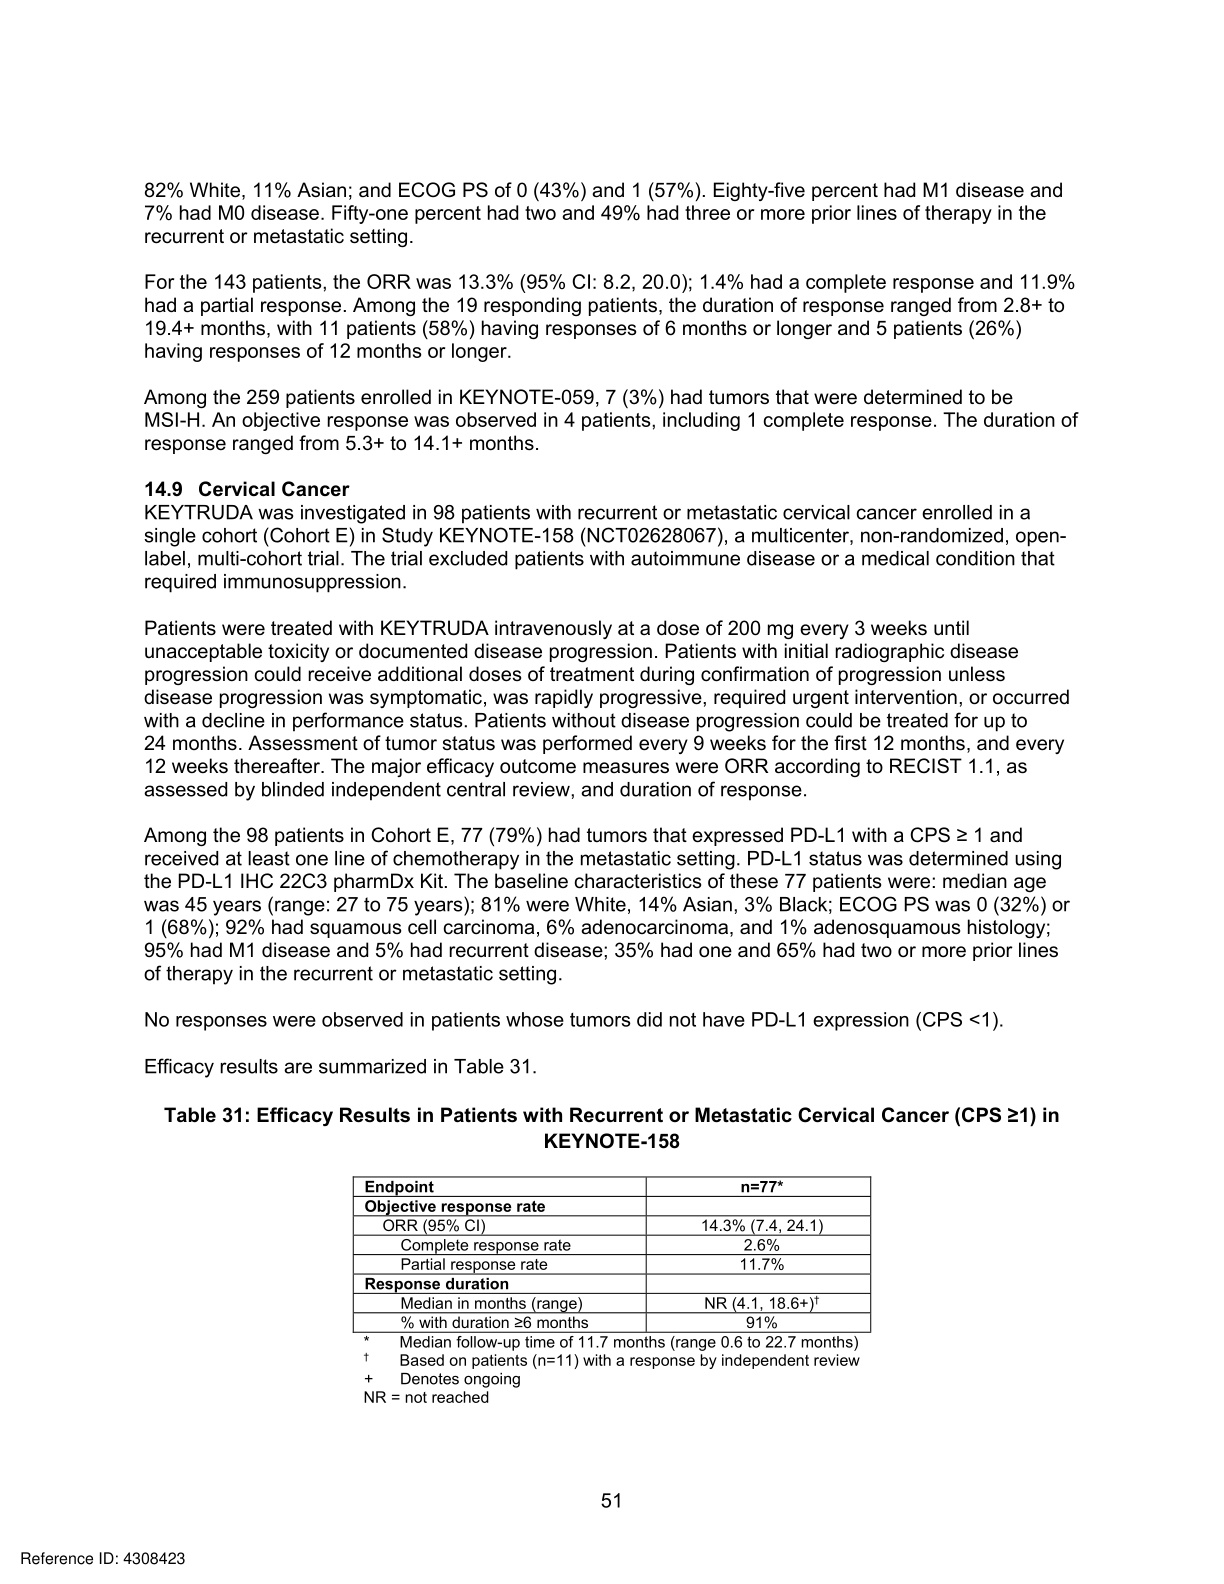full_lined: (351, 1176, 872, 1335)
